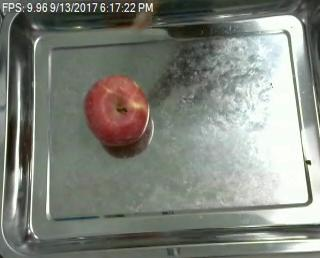apple: (84, 73, 149, 146)
